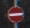No entry: (6, 5, 25, 23)
